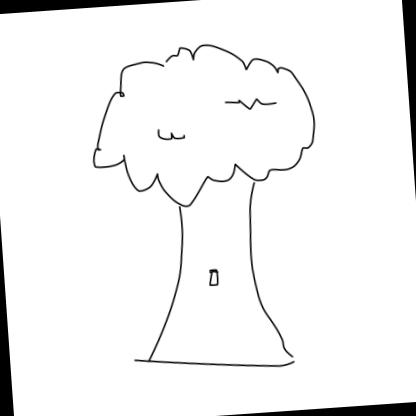crown_cloud: (84, 37, 320, 212)
trunk_straight: (156, 214, 272, 325)
